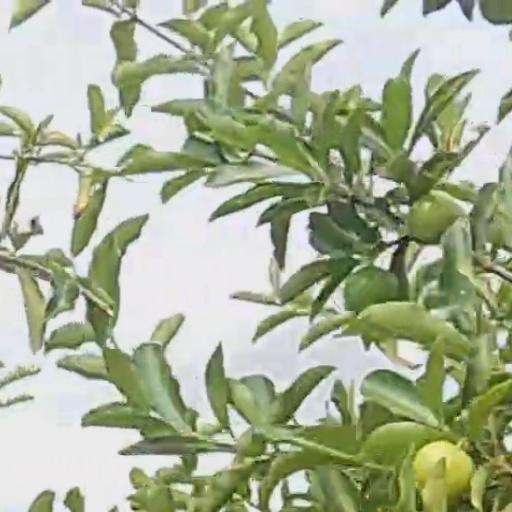acerola: (415, 439, 476, 501), (348, 266, 395, 310), (411, 197, 457, 239)
